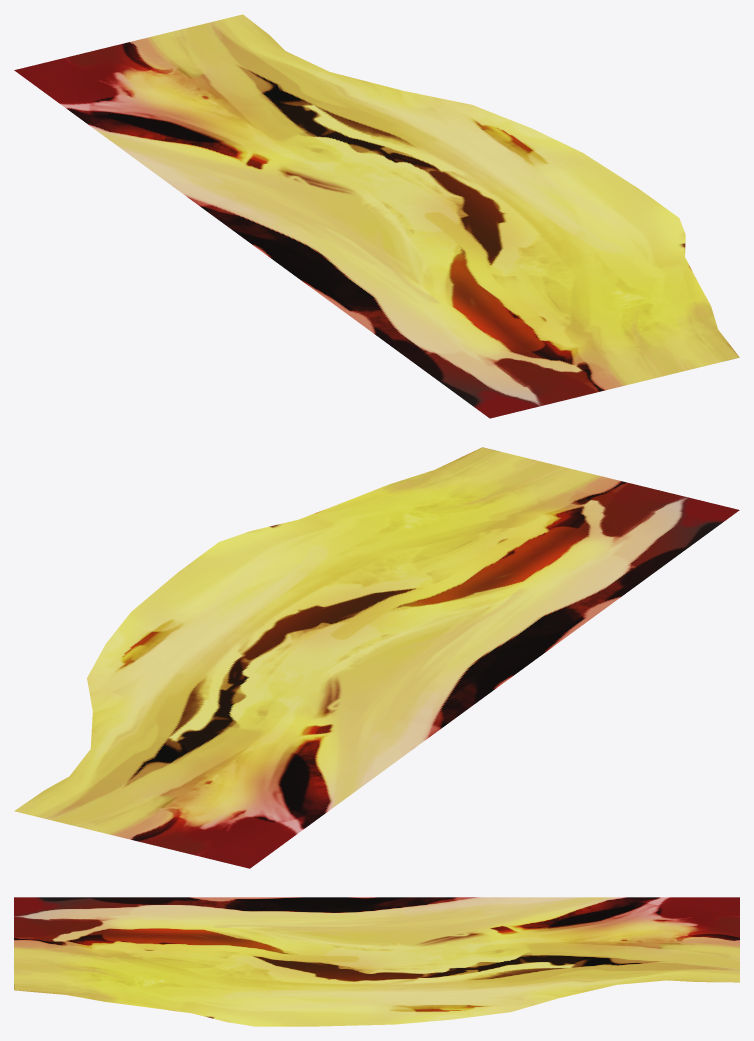
Rendered from Lava_Junction.fbx.
3 views of the same model, one above another, from view 1: azimuth 30°, elevation 25°; view 2: azimuth 150°, elevation 25°; view 3: azimuth 270°, elevation 25° (orthographic). The views are drawn at different scales.
Visible parts, largest first — view 1: pPlane6; view 2: pPlane6; view 3: pPlane6.
Part boxes in pixels (box(x1,y1,x2,y2)): pPlane6: box(14, 14, 739, 418); pPlane6: box(14, 447, 739, 868); pPlane6: box(14, 897, 739, 1026).
Size of the model in its own units: 0.4217 by 2.22e-16 by 1.
1 material, 1 textured.
